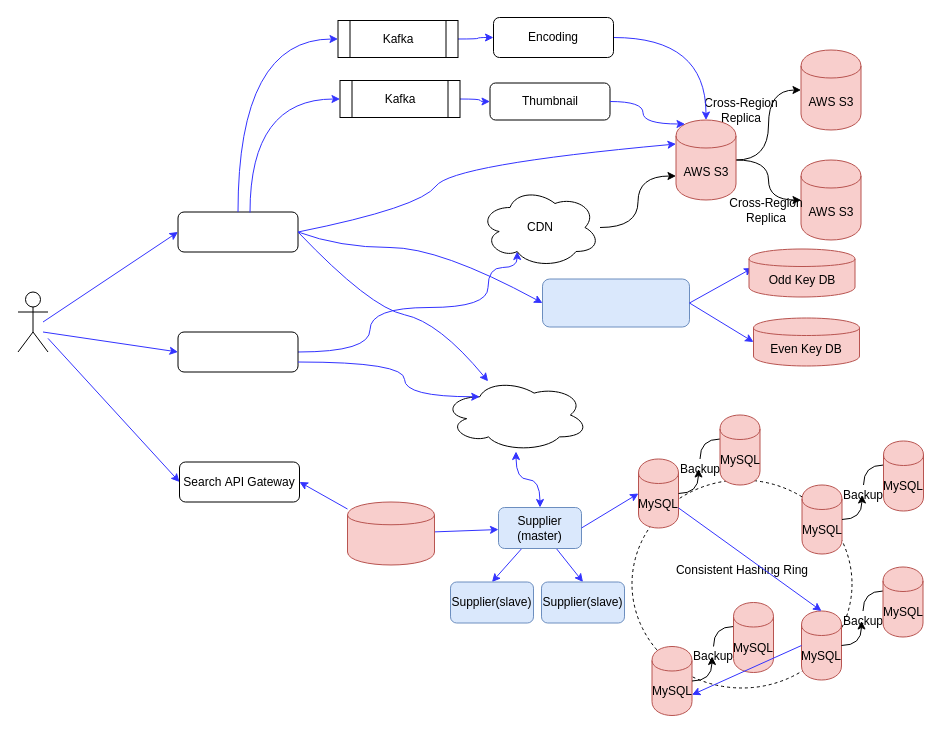
This 941x733 diagram has some shape labels left out. Here are the shapes that lost their labels. From the top down, the box of each, then its label:
(177, 211, 298, 252): Upload API Gateway
(17, 291, 48, 352): User
(542, 278, 690, 327): Key Generation Service
(177, 331, 298, 372): Watch API Gateway
(442, 378, 588, 452): Cache Hot Metadata
(346, 501, 434, 565): ElasticSeaerch
